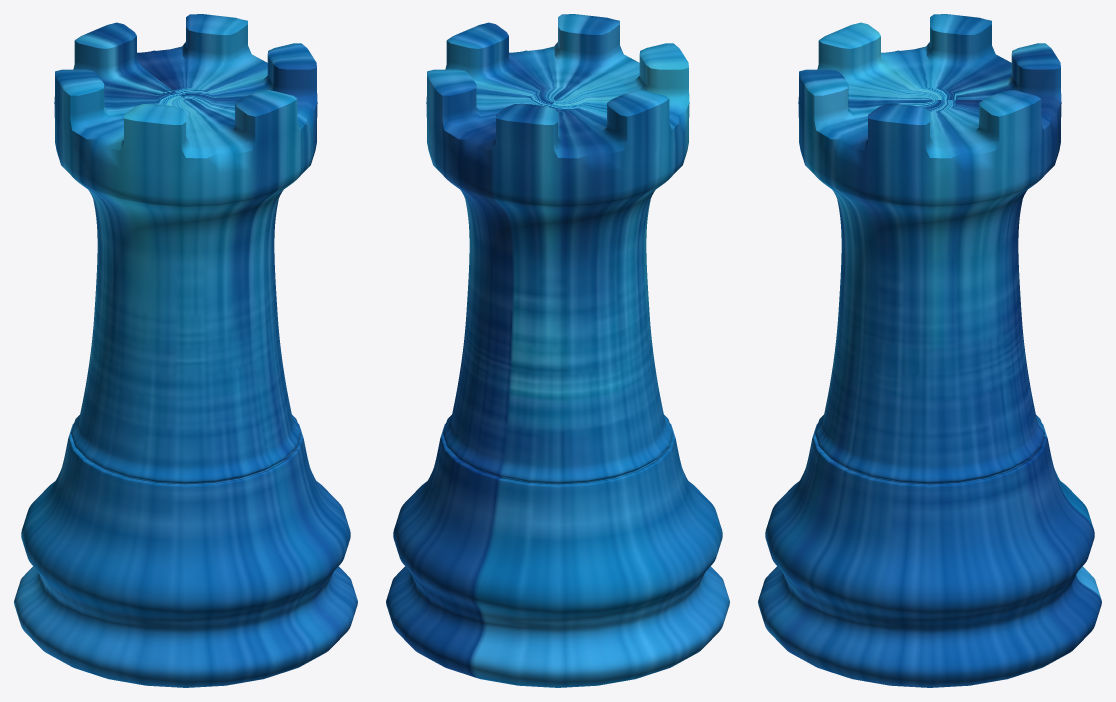
Rendered from RookBlue.obj.
3 renders of one model, left to right at view 1: azimuth 30°, elevation 25°; view 2: azimuth 150°, elevation 25°; view 3: azimuth 270°, elevation 25°, orthographic.
Parts seen in each view (by area): view 1: mesh01; view 2: mesh01; view 3: mesh01.
Part boxes in pixels (x1=…): mesh01: x1=14, y1=14, x2=357, y2=687; mesh01: x1=386, y1=14, x2=729, y2=687; mesh01: x1=758, y1=14, x2=1101, y2=687.
Bounding box in the file's own units: 7.93 × 14.41 × 7.93.
